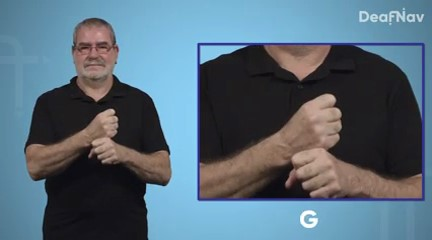G: (283, 85, 355, 202), (87, 108, 122, 168)
